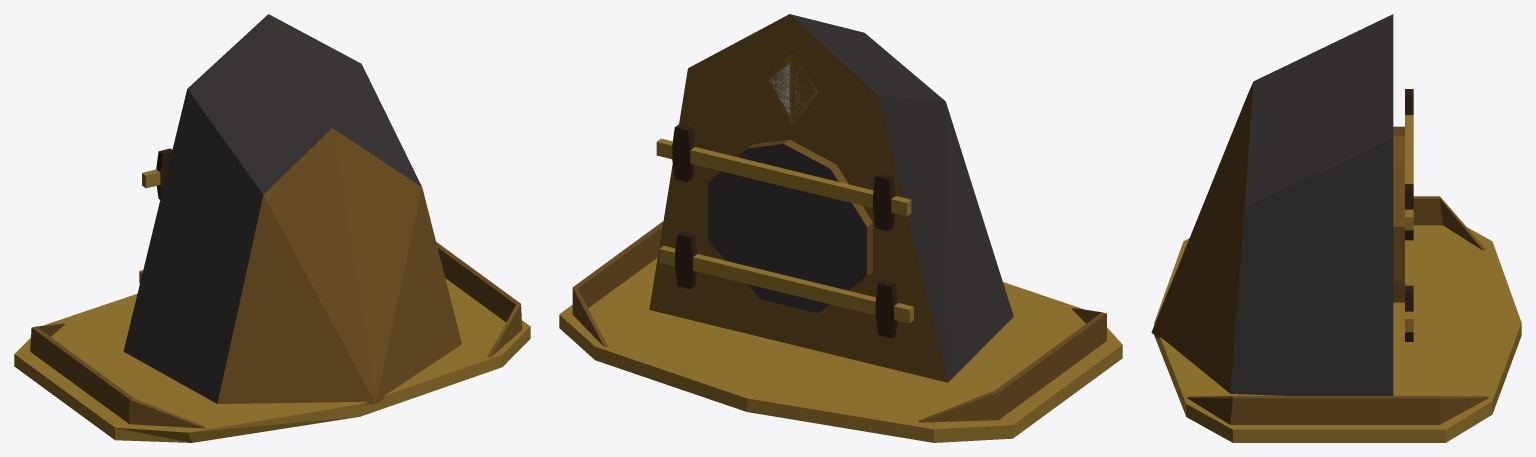
The model's file is obj_fairy_bank_0.obj.
3 views of the same model, side by side, from view 1: azimuth 30°, elevation 25°; view 2: azimuth 150°, elevation 25°; view 3: azimuth 270°, elevation 25° (orthographic). The views are drawn at different scales.
Size of the model in its own units: 1.36 by 0.9844 by 0.9922.
